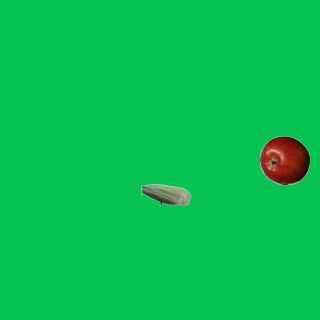Apple Braeburn: (259, 135, 309, 185)
Corn Husk: (140, 169, 190, 219)
